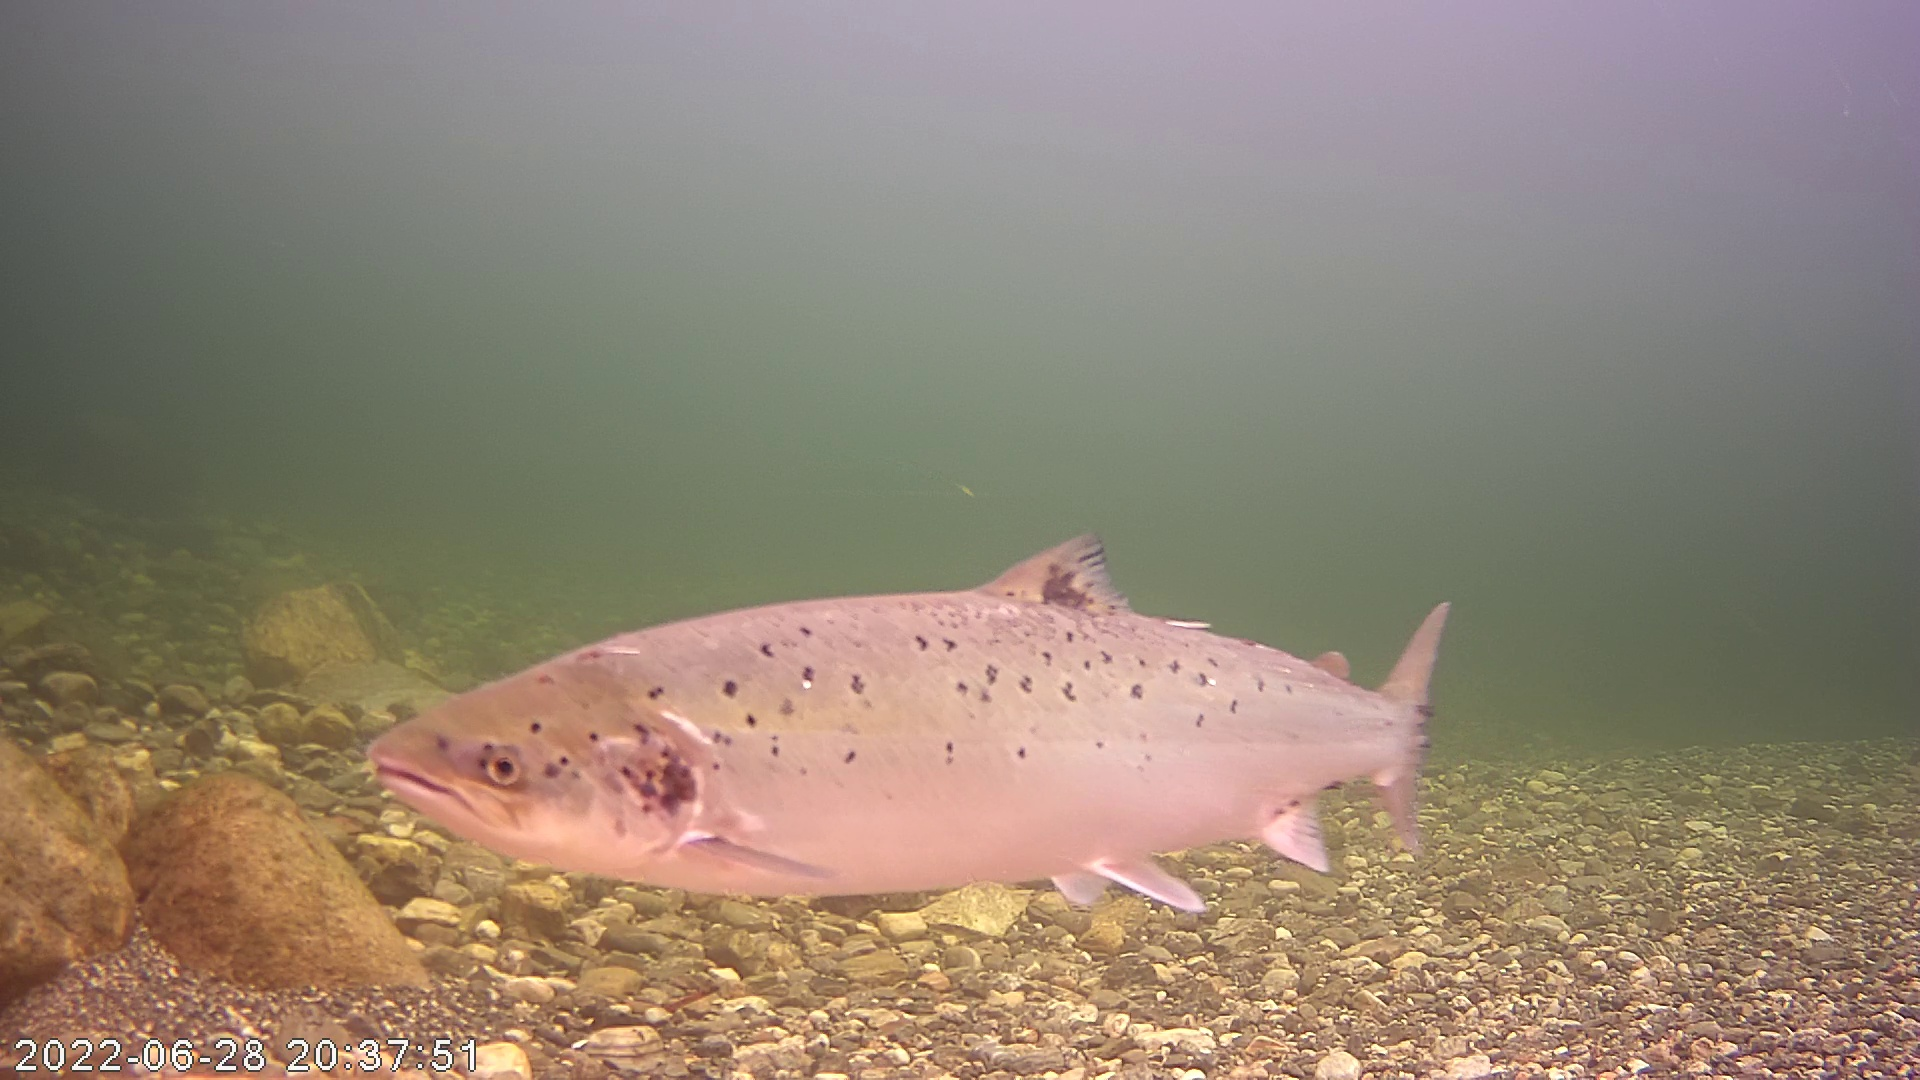salmon: (371, 498, 1460, 914)
